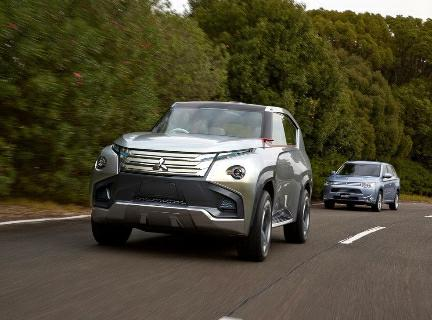三菱-GC-PHEV: (88, 95, 319, 260)
